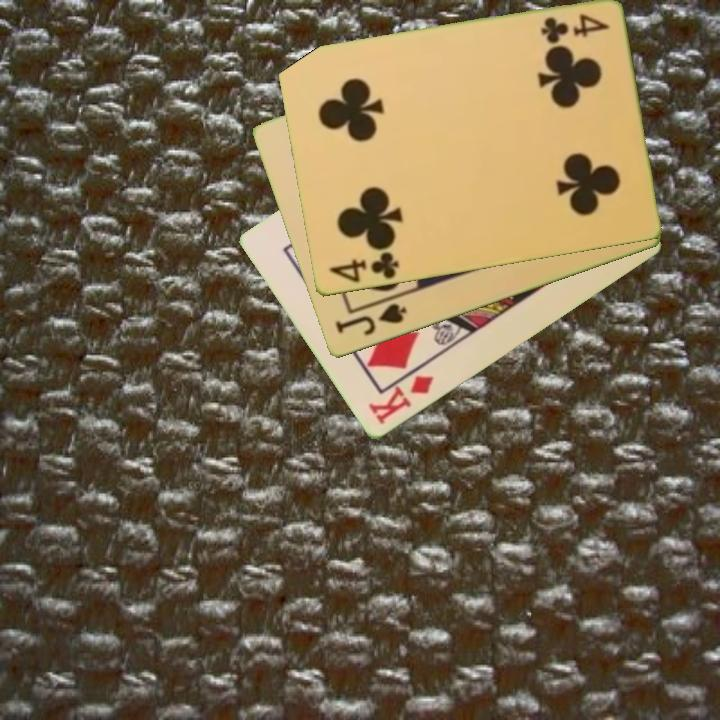4c: (325, 248, 402, 286), (536, 10, 612, 45)
Js: (331, 300, 410, 339)
Kd: (364, 372, 437, 429)
